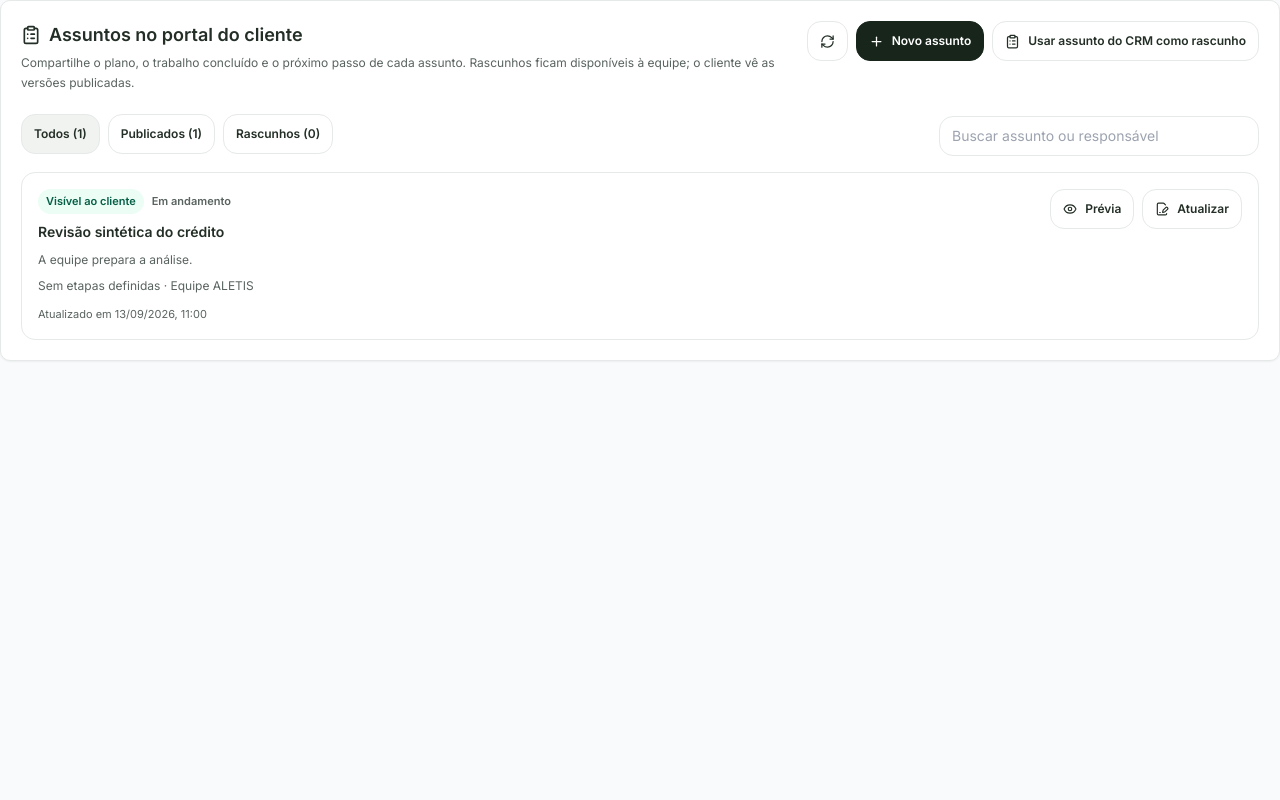
Scenario: Equipe: publicação consciente, conclusão real e concorrência › abre plano existente ao escolher demanda já vinculada, preservando o texto preparado para o cliente
Click the button "Usar assunto do CRM como rascunho". click: [1126, 41]
box: [992, 21, 1259, 61]
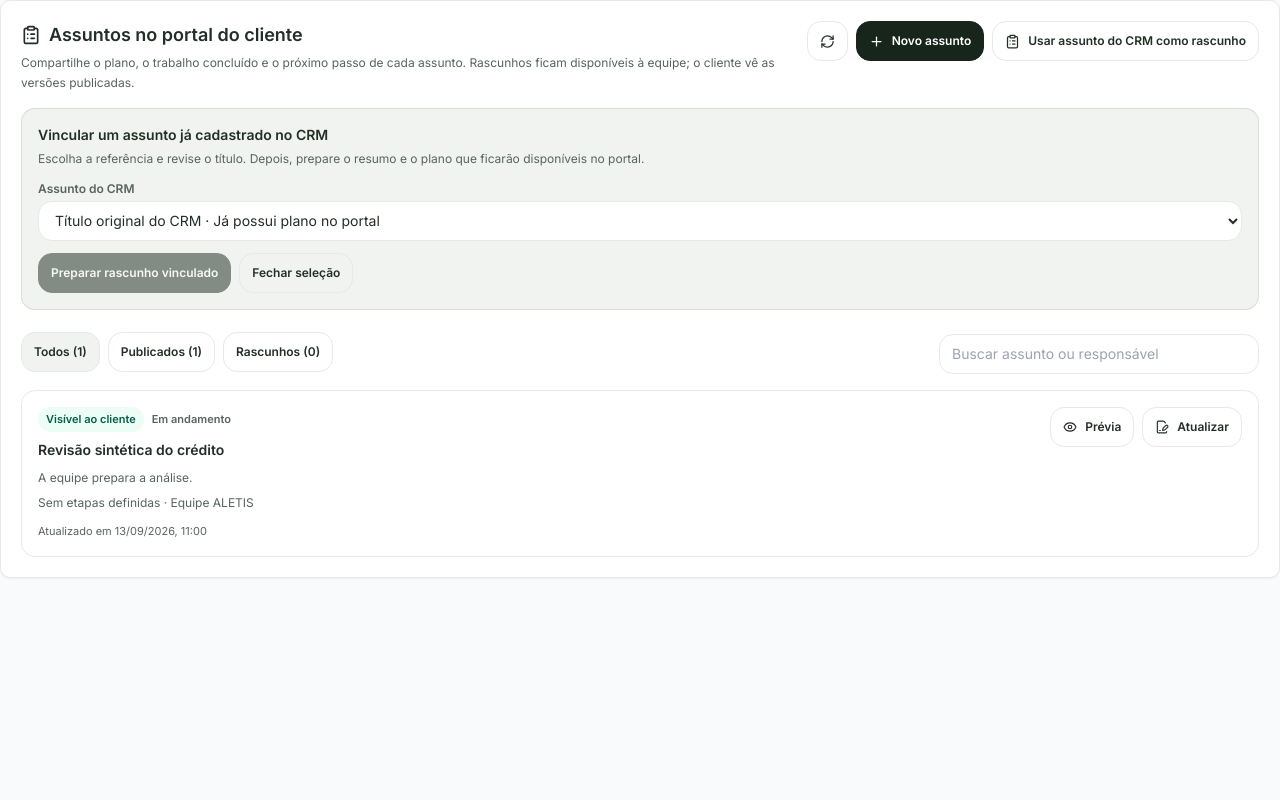
Select "Título original do CRM · Já possui plano no portal" in the dropdown labelled "Assunto do CRM". click: [640, 220]
box: [38, 200, 1242, 240]
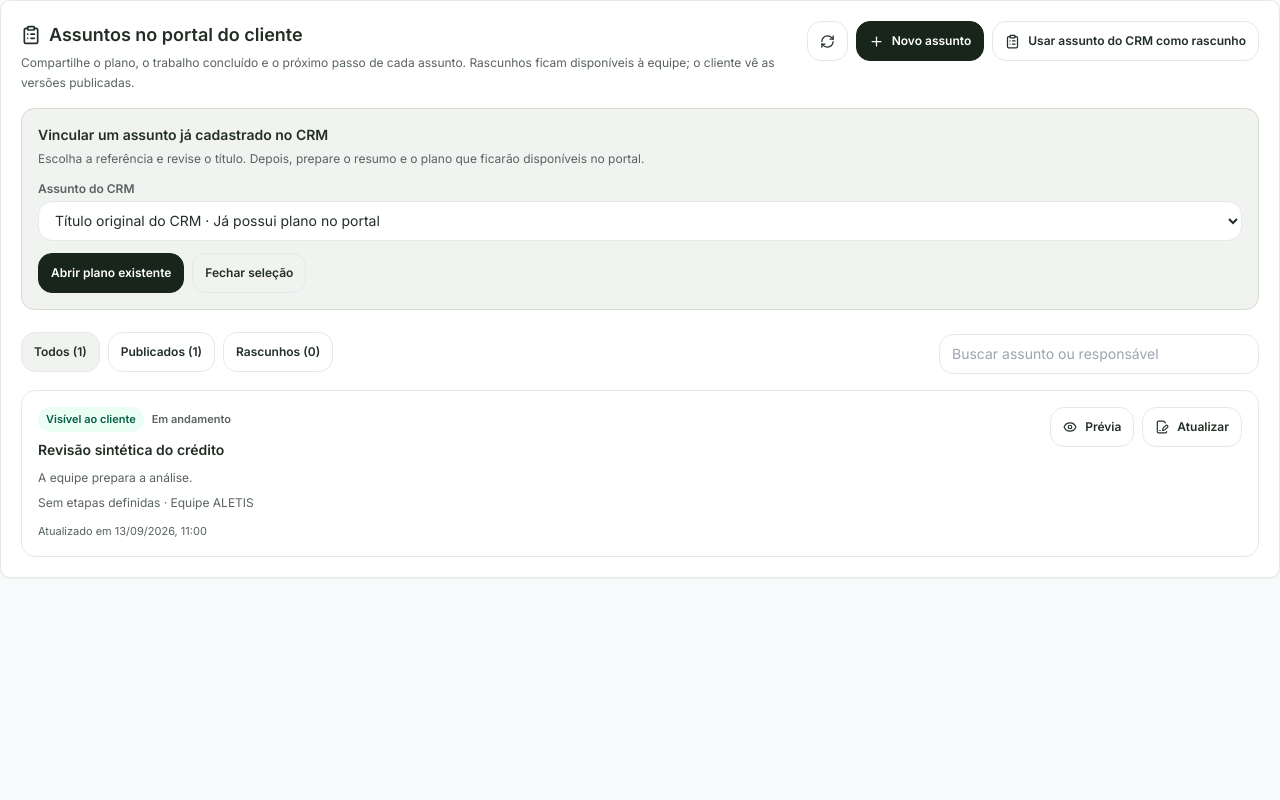
Click the button "Abrir plano existente". click: [111, 272]
box: [38, 252, 184, 292]
(page scrolled)
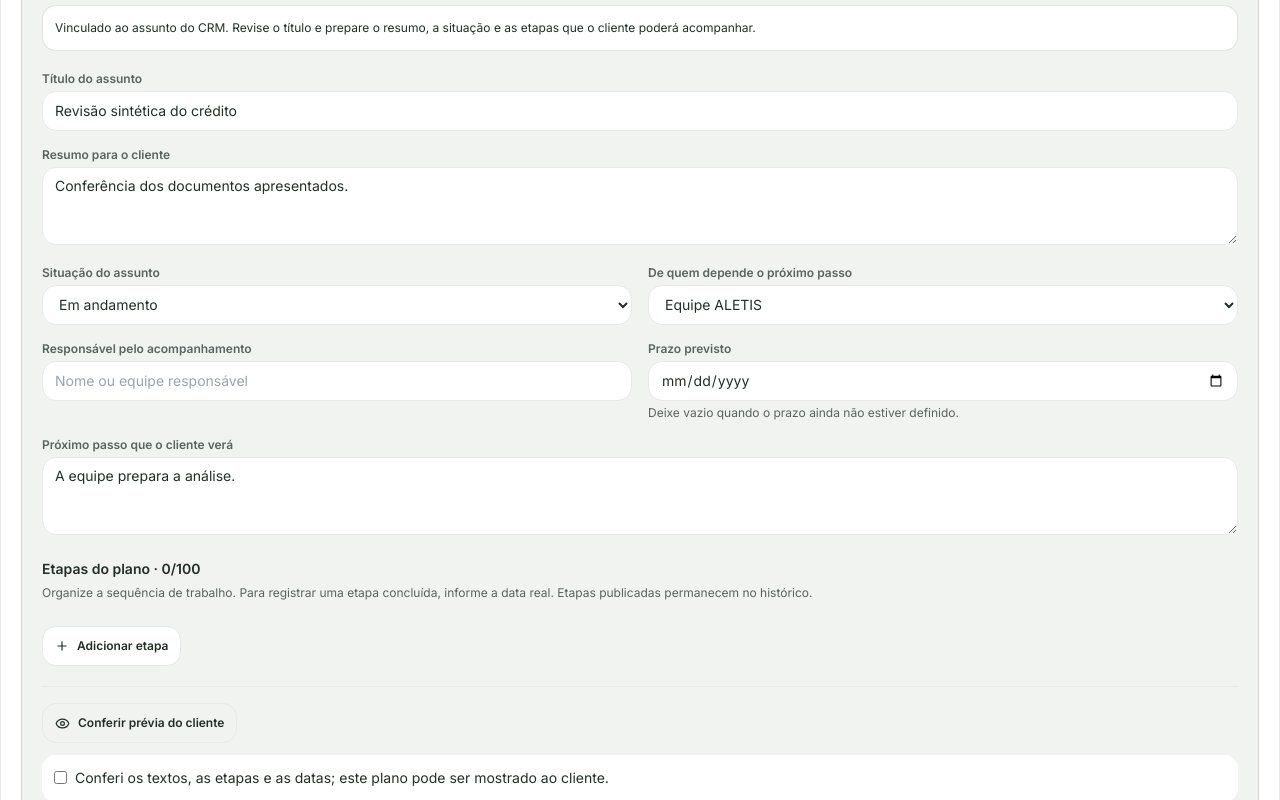
Expected: the field labelled "Título do assunto" holds "Revisão sintética do crédito", [42, 91, 1238, 131]
Expected: the text box labelled "Resumo para o cliente" holds "Conferência dos documentos apresentados.", [42, 167, 1238, 245]
